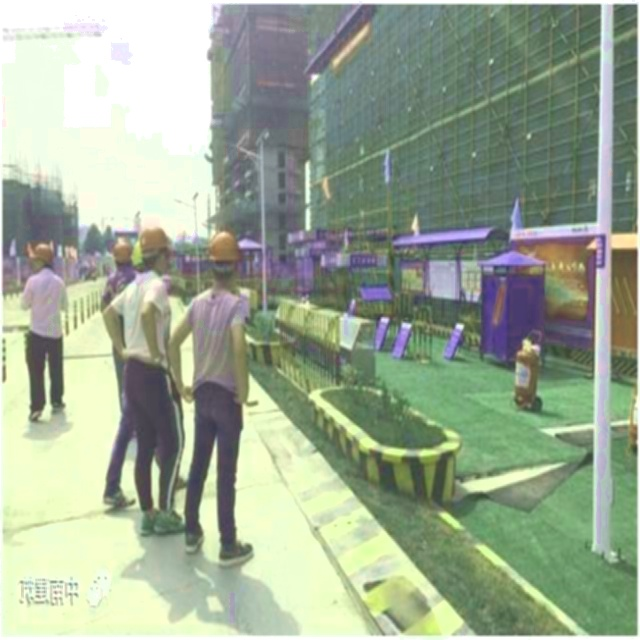Con_Casco: (210, 232, 240, 292), (139, 223, 173, 275)
